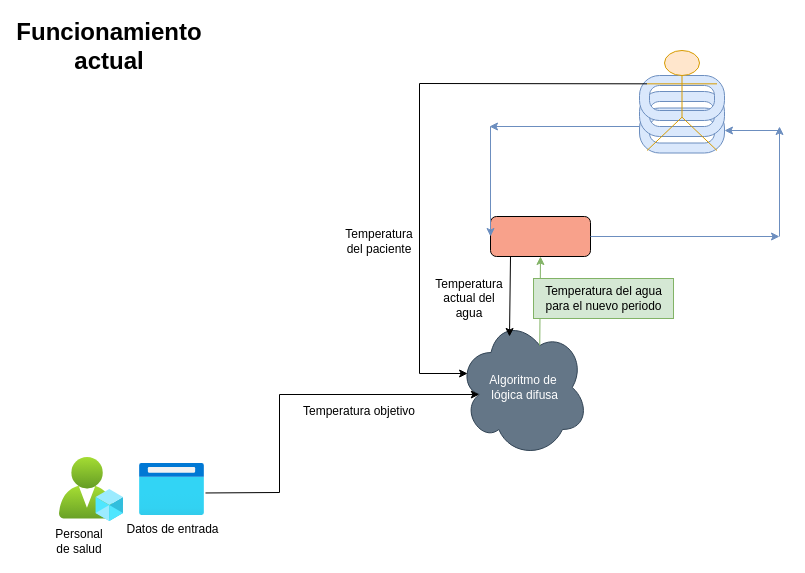
Image size: 805x573. Some labels were removed from this diagram. The shapes that lost their labels are listed below. From the top down, each one's centre as x and y in pixels, then its label:
the point at 681,100: Paciente
the point at 540,236: Sistema térmico
